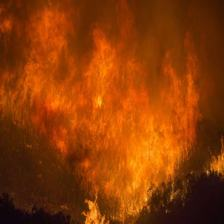fire: (9, 28, 201, 218)
